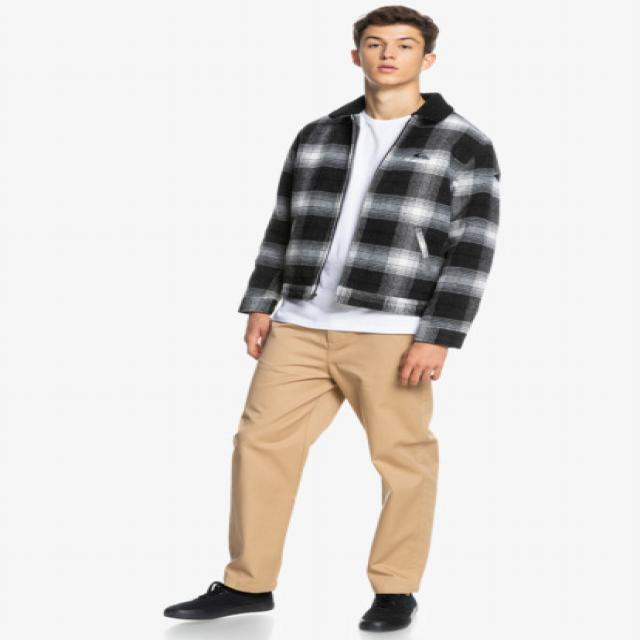plaid: (242, 90, 496, 347)
